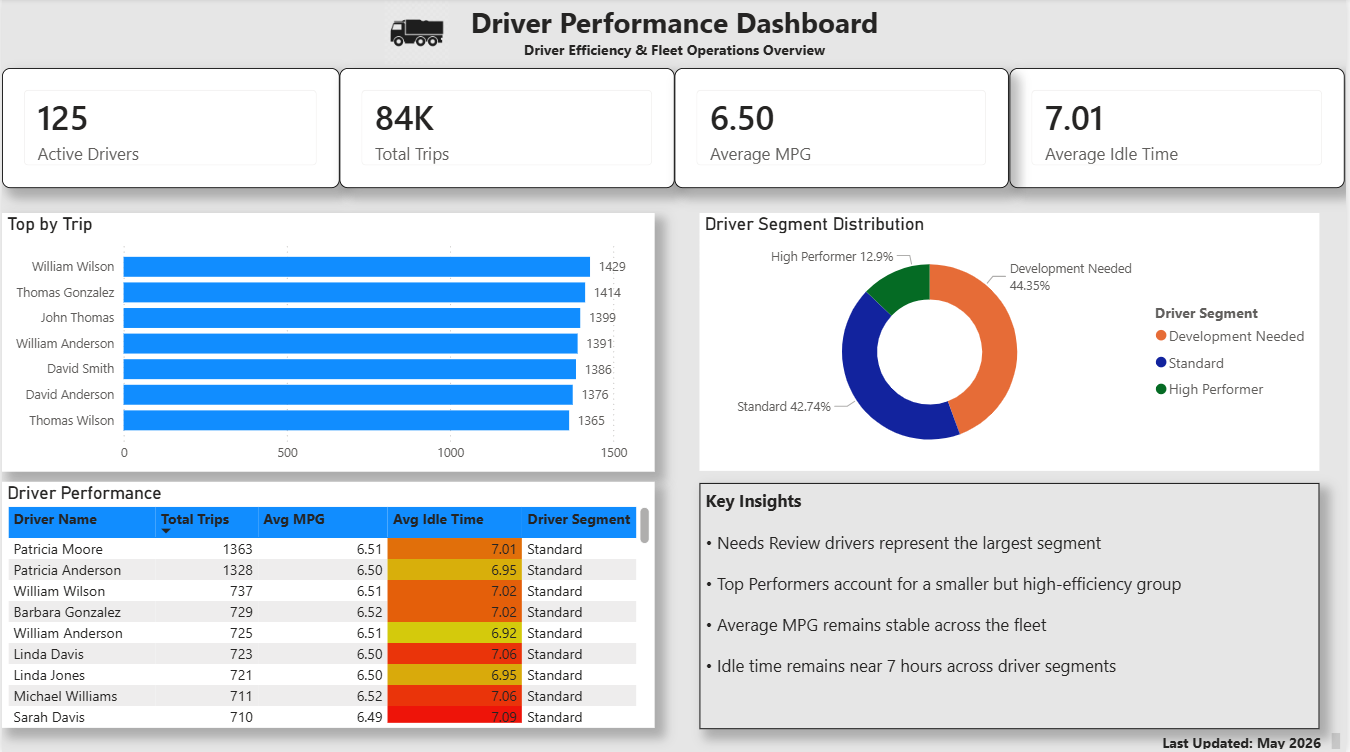

The page's visual inventory and layout, read from the dashboard file:
{"tool":"powerbi","page":{"name":"Driver Performance Dashboard ","canvas":[1280,720],"ordinal":2},"visuals":[{"type":"textbox","box":[426.2,0,428.6,66.7],"z":0},{"type":"textbox","box":[1100,695.2,179.8,25],"z":1000},{"type":"image","box":[364.3,0,61.9,66.7],"z":2000},{"type":"cardVisual","fields":{"Data":["Avg(public driver_performance_view.avg_idle_time)"]},"box":[959.5,66.7,319,114.3],"z":3000},{"type":"cardVisual","fields":{"Data":["Sum(public executive_dashboard_view.active_drivers)"]},"box":[0,66.7,321.4,114.3],"z":4000},{"type":"cardVisual","fields":{"Data":["Sum(public driver_performance_view.total_trips)"]},"box":[321.4,66.7,319,114.3],"z":5000},{"type":"cardVisual","fields":{"Data":["Avg(public driver_performance_view.avg_mpg)"]},"box":[640.8,66.2,318.5,114.7],"z":6000},{"type":"clusteredBarChart","title":"Top  by Trip","fields":{"Category":["public driver_performance_view.Driver Name"],"Y":["Sum(public driver_performance_view.total_trips)"]},"box":[0,204.8,621.4,246.4],"z":7000},{"type":"tableEx","title":"Driver Performance ","fields":{"Values":["public driver_performance_view.Driver Name","Sum(public driver_performance_view.total_trips)","Avg(public driver_performance_view.avg_mpg)","Avg(public driver_performance_view.avg_idle_time)","public driver_performance_view.driver_segment"]},"box":[0,460.7,621.4,234.5],"z":8000},{"type":"textbox","box":[664.3,461.9,590.5,234.5],"z":9000},{"type":"donutChart","title":"Driver Segment Distribution","fields":{"Category":["public driver_segment_summary_view.driver_segment"],"Y":["Sum(public driver_segment_summary_view.drivers)"]},"box":[664.8,205.1,590.7,245.9],"z":10000}]}

Visuals, with their boxes in screenshot pixels (x1, y1, x2, y2), scaled from the page's 1280x720 canvas onto the 1350x752 screenshot:
textbox: detection(450, 0, 902, 70)
textbox: detection(1160, 726, 1349, 751)
image: detection(384, 0, 450, 70)
cardVisual - Avg(public driver_performance_view.avg_idle_time): detection(1012, 70, 1348, 189)
cardVisual - Sum(public executive_dashboard_view.active_drivers): detection(0, 70, 339, 189)
cardVisual - Sum(public driver_performance_view.total_trips): detection(339, 70, 675, 189)
cardVisual - Avg(public driver_performance_view.avg_mpg): detection(676, 69, 1012, 189)
"Top  by Trip" clusteredBarChart: detection(0, 214, 655, 471)
"Driver Performance " tableEx: detection(0, 481, 655, 726)
textbox: detection(701, 482, 1323, 727)
"Driver Segment Distribution" donutChart: detection(701, 214, 1324, 471)
